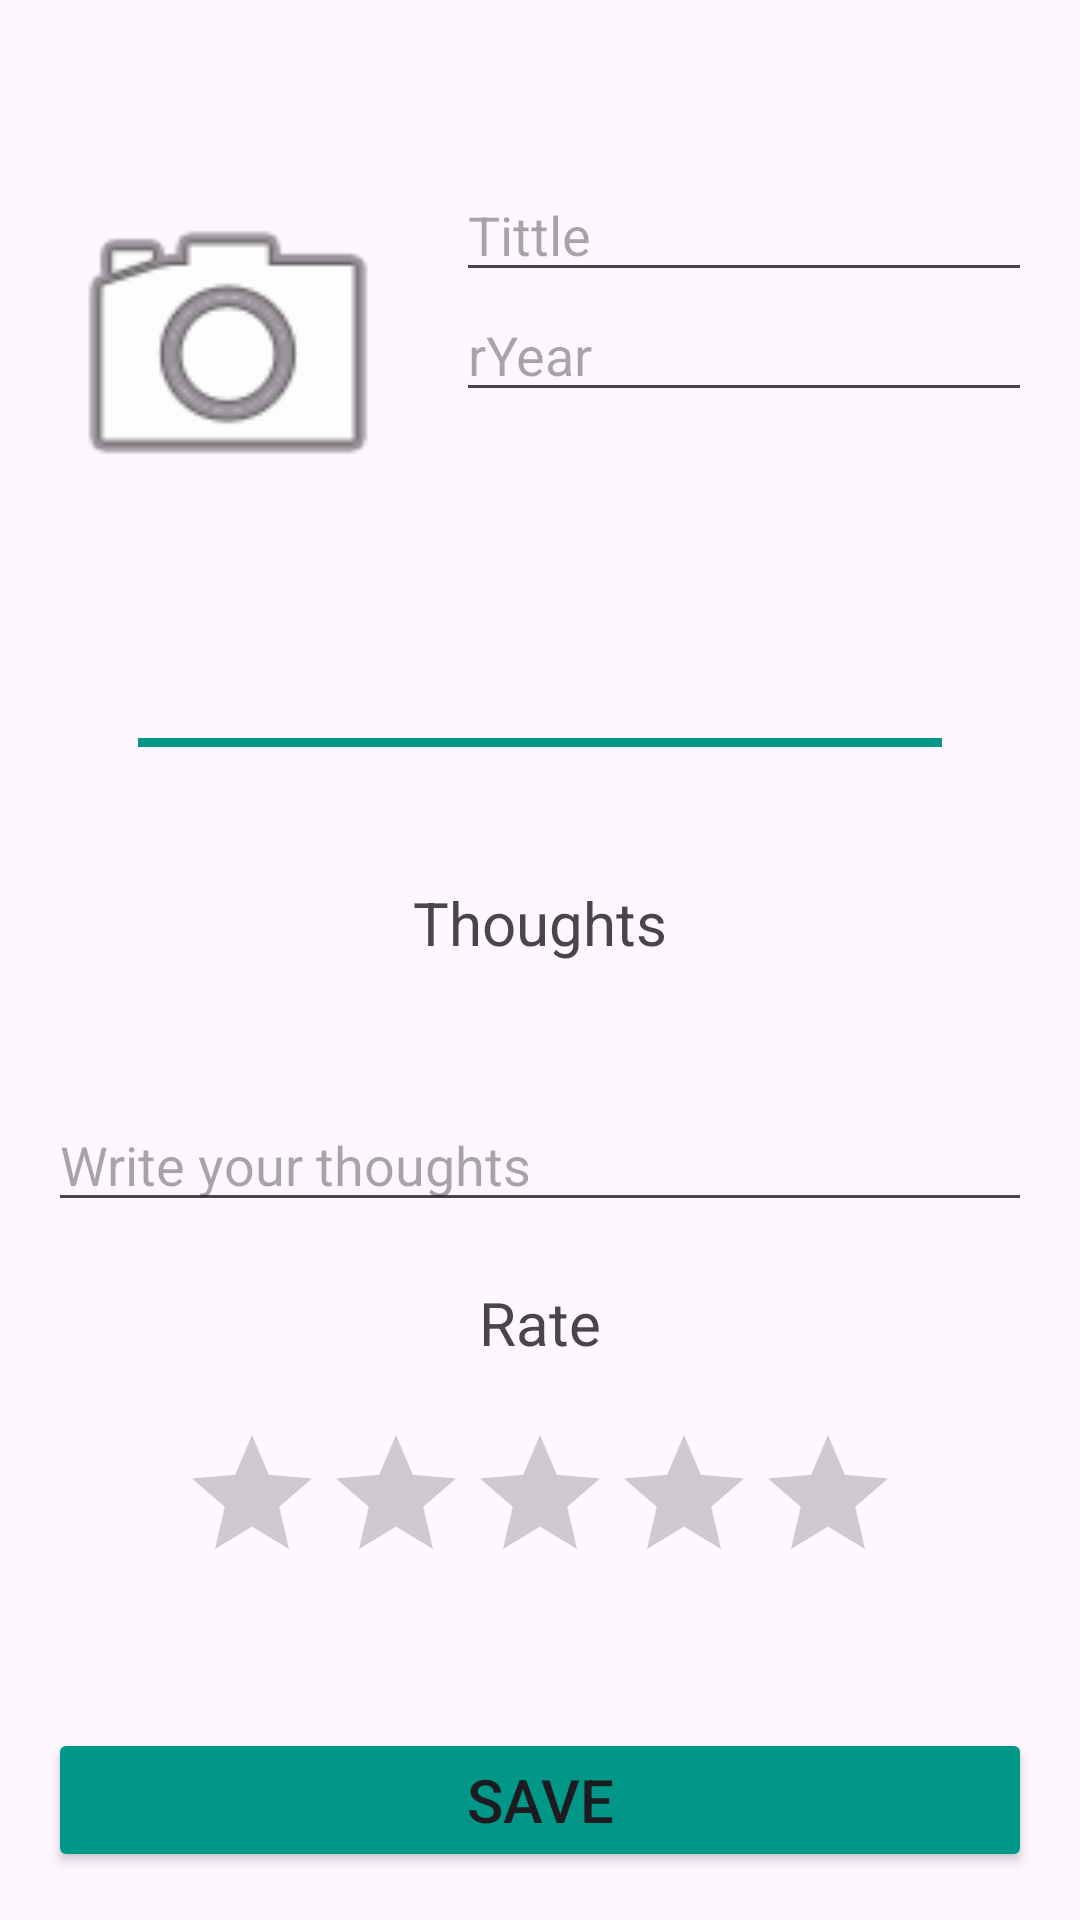

Screen size 1080*1920. Icon name, then its box in pixels as (x1, y1, x2, y2):
camera: (89, 231, 367, 453)
